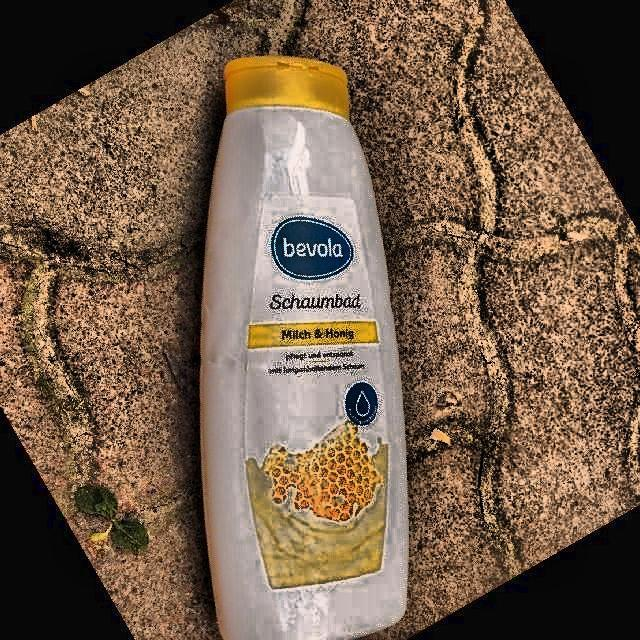plastic: (202, 59, 408, 640)
